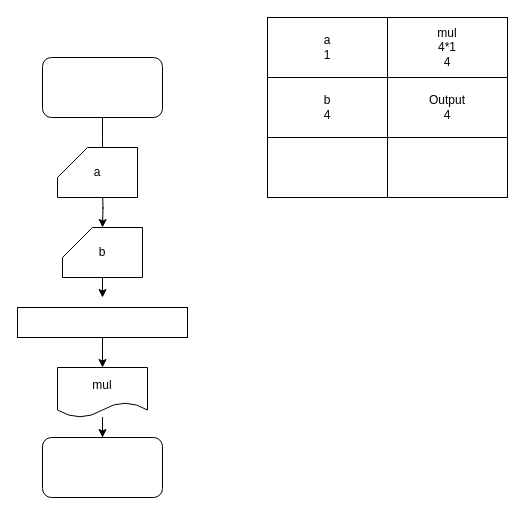
Some shapes in this 525 by 515 pixel diagram are drawn without their labels. Here are the shapes that lost their labels. From the top down, the box of each, then its label:
(42, 56, 162, 118): Start
(16, 306, 188, 338): mul = a * b
(42, 436, 162, 498): End
